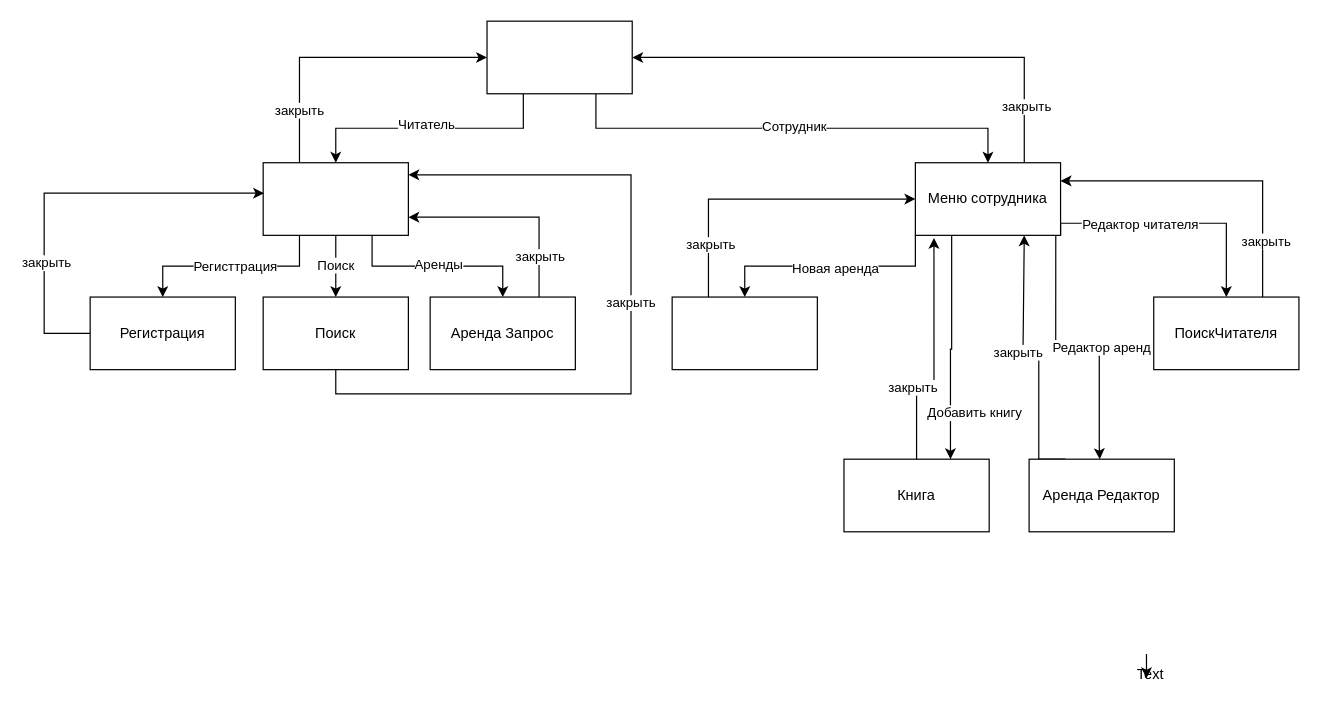
Some shapes in this 1320 by 711 pixel diagram are drawn without their labels. The box of each missing label's shape, as (x1, y1, x2, y2) in pixels:
Аренда: (671, 296, 817, 370)
Главная: (486, 20, 632, 94)
Меню читателя: (262, 162, 408, 235)
